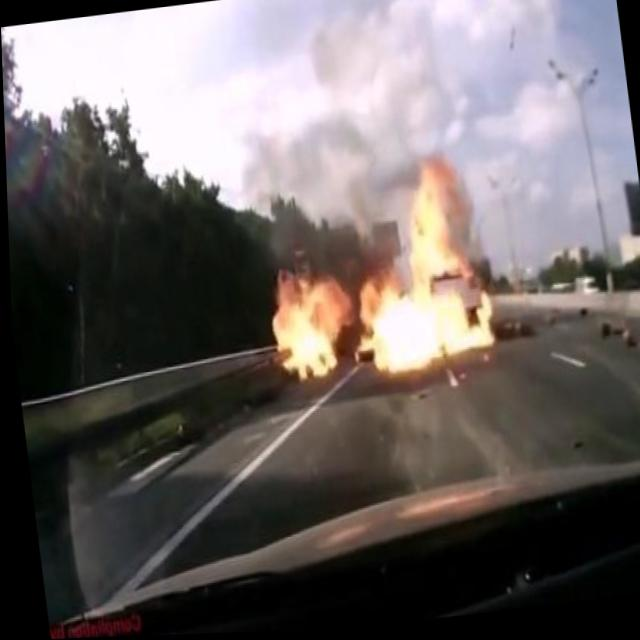fire: (246, 147, 502, 400)
